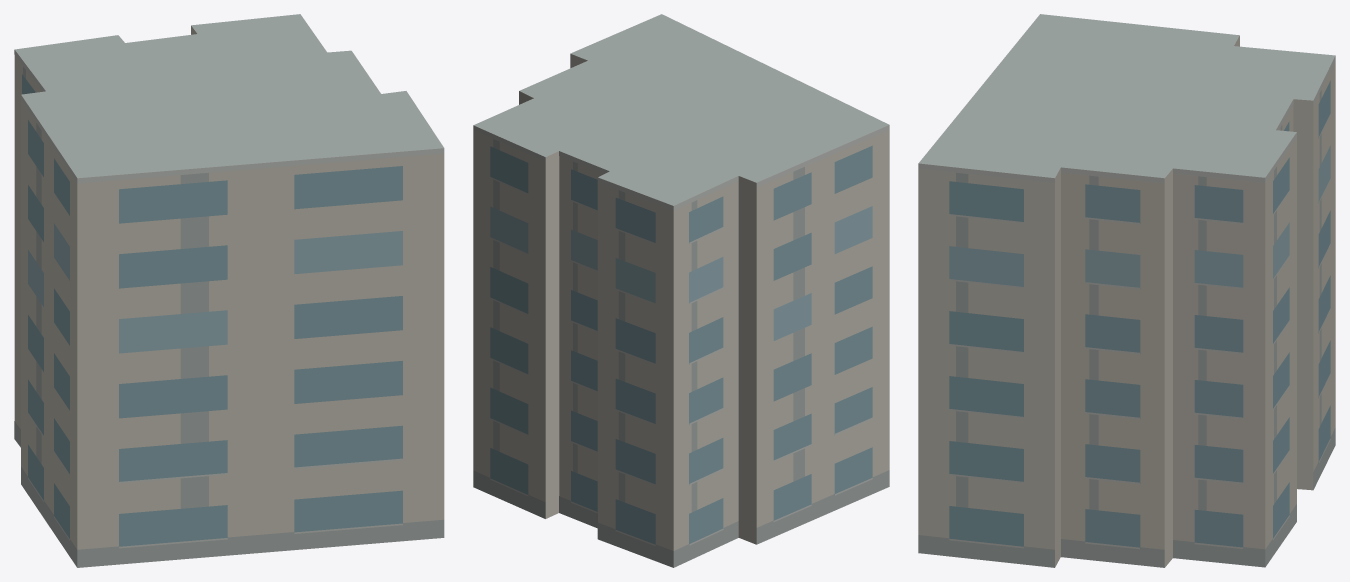
Rendered from survey-upis-32917648.glb.
3 renders of one model, left to right at view 1: azimuth 30°, elevation 25°; view 2: azimuth 150°, elevation 25°; view 3: azimuth 270°, elevation 25°, orthographic. The views are drawn at different scales.
Parts seen in each view (by area): view 1: survey-upis-32917648.tmp; view 2: survey-upis-32917648.tmp; view 3: survey-upis-32917648.tmp.
Part boxes in pixels (x1,y1,x2,y2): survey-upis-32917648.tmp: [14, 14, 444, 567]; survey-upis-32917648.tmp: [473, 14, 889, 567]; survey-upis-32917648.tmp: [918, 14, 1335, 567].
Size of the model in its own units: 16.28 by 18 by 17.48.
